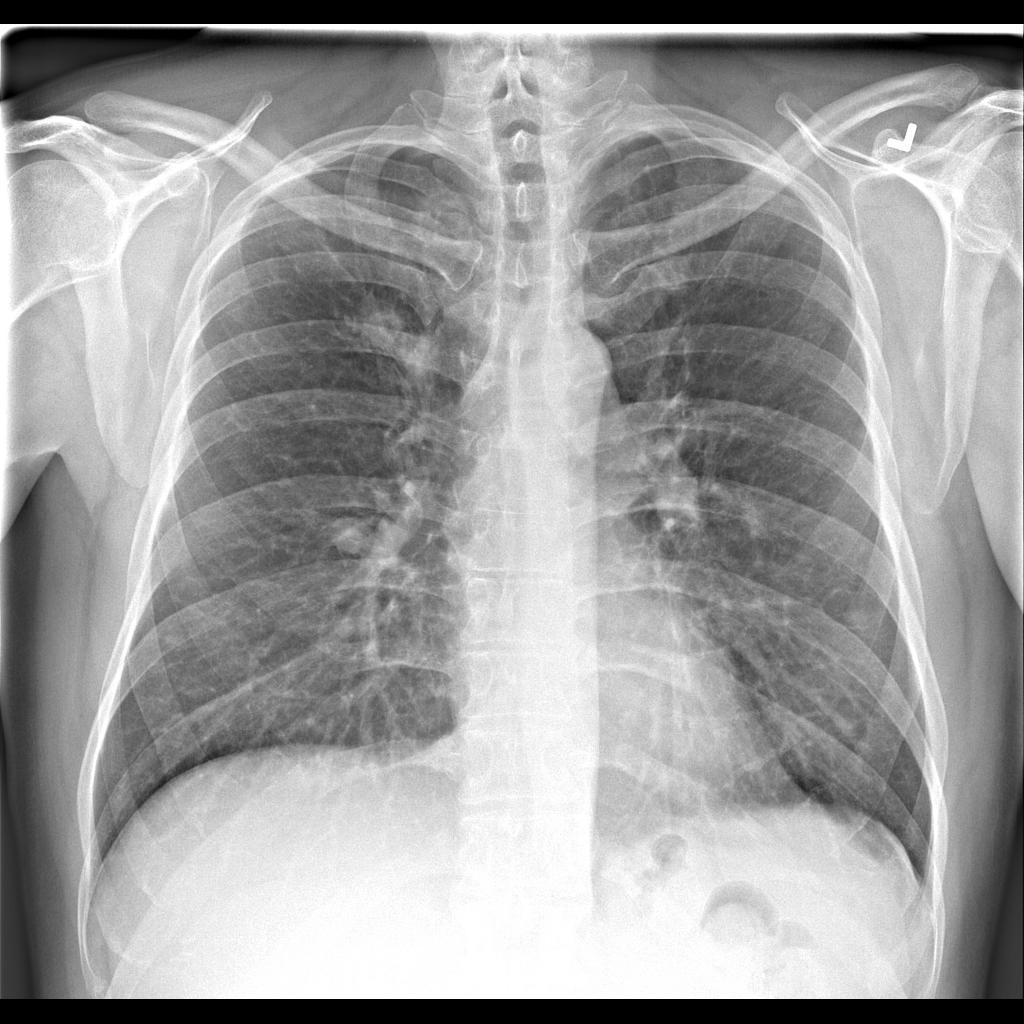Nodule: (376, 310, 443, 382), (323, 505, 375, 573)
